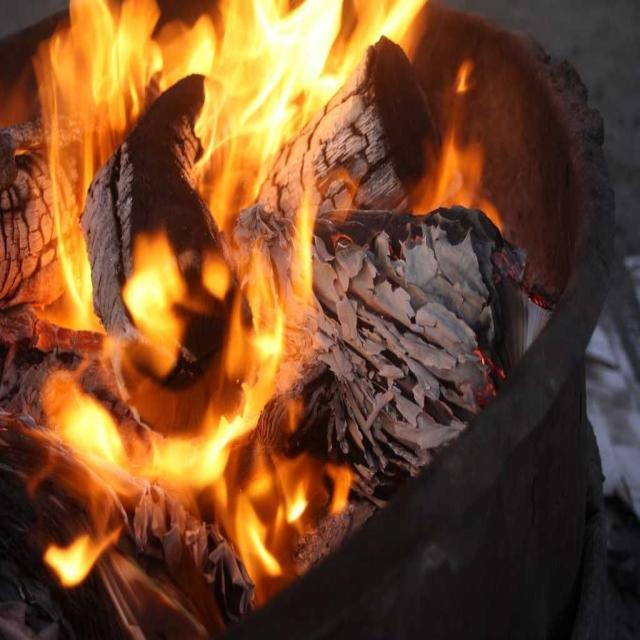Fire: (52, 10, 150, 116), (229, 14, 321, 108), (157, 401, 251, 472), (51, 394, 123, 474), (254, 482, 326, 524)
